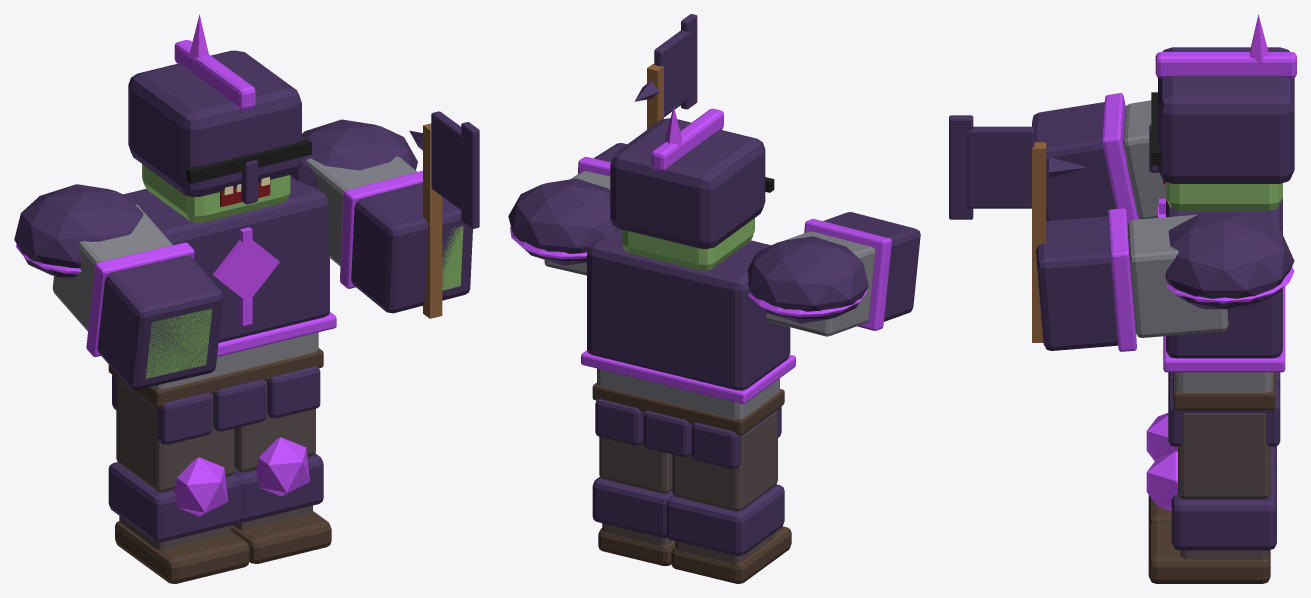
File: zombi_armadura_obsidiana.glb
3 views of the same model, side by side, from view 1: azimuth 30°, elevation 25°; view 2: azimuth 150°, elevation 25°; view 3: azimuth 270°, elevation 25° (orthographic). The views are drawn at different scales.
Visible parts, largest first — view 1: Torso, RightArm, LeftArm, Head, LeftLeg, RightLeg; view 2: Torso, Head, LeftArm, LeftLeg, RightArm, RightLeg; view 3: RightArm, Head, RightLeg, Torso, LeftArm, LeftLeg.
Part boxes in pixels (<box>): Torso: <box>108,175,336,444</box>; RightArm: <box>290,111,479,318</box>; LeftArm: <box>14,184,223,389</box>; Head: <box>128,14,311,222</box>; LeftLeg: <box>108,379,249,583</box>; RightLeg: <box>231,381,331,563</box>; Torso: <box>581,229,795,468</box>; Head: <box>610,106,774,270</box>; LeftArm: <box>747,212,920,336</box>; LeftLeg: <box>666,411,791,583</box>; RightArm: <box>508,14,697,275</box>; RightLeg: <box>592,412,675,565</box>; RightArm: <box>949,115,1294,351</box>; Head: <box>1149,14,1296,210</box>; RightLeg: <box>1146,413,1276,583</box>; Torso: <box>1158,198,1285,446</box>; LeftArm: <box>1032,93,1165,224</box>; LeftLeg: <box>1146,413,1276,529</box>.
Bounding box in the file's own units: 6.08 × 7.83 × 4.64.
1 material, 1 textured.
